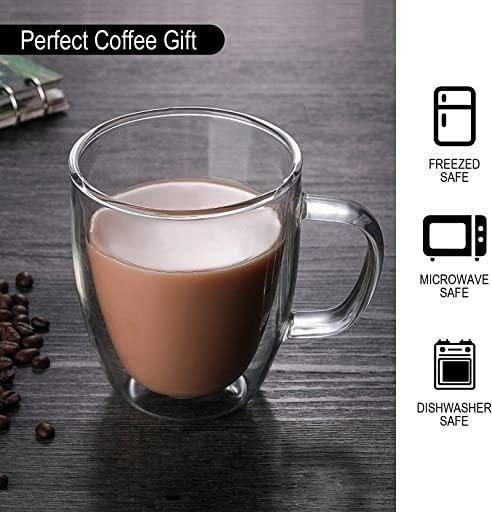glass-mug: (61, 102, 387, 425)
